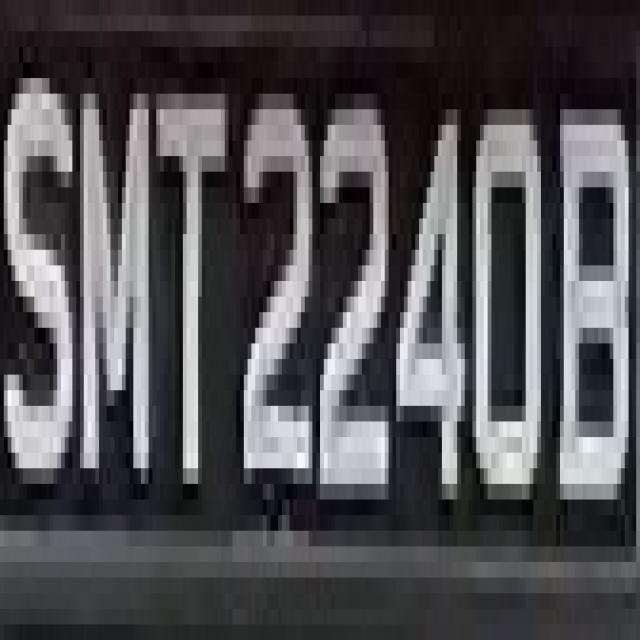0: (464, 62, 548, 578)
2: (313, 78, 397, 578), (232, 78, 316, 531)
4: (385, 78, 472, 562)
B: (552, 62, 628, 546)
M: (76, 109, 164, 531)
S: (0, 63, 76, 515)
T: (145, 62, 232, 546)
